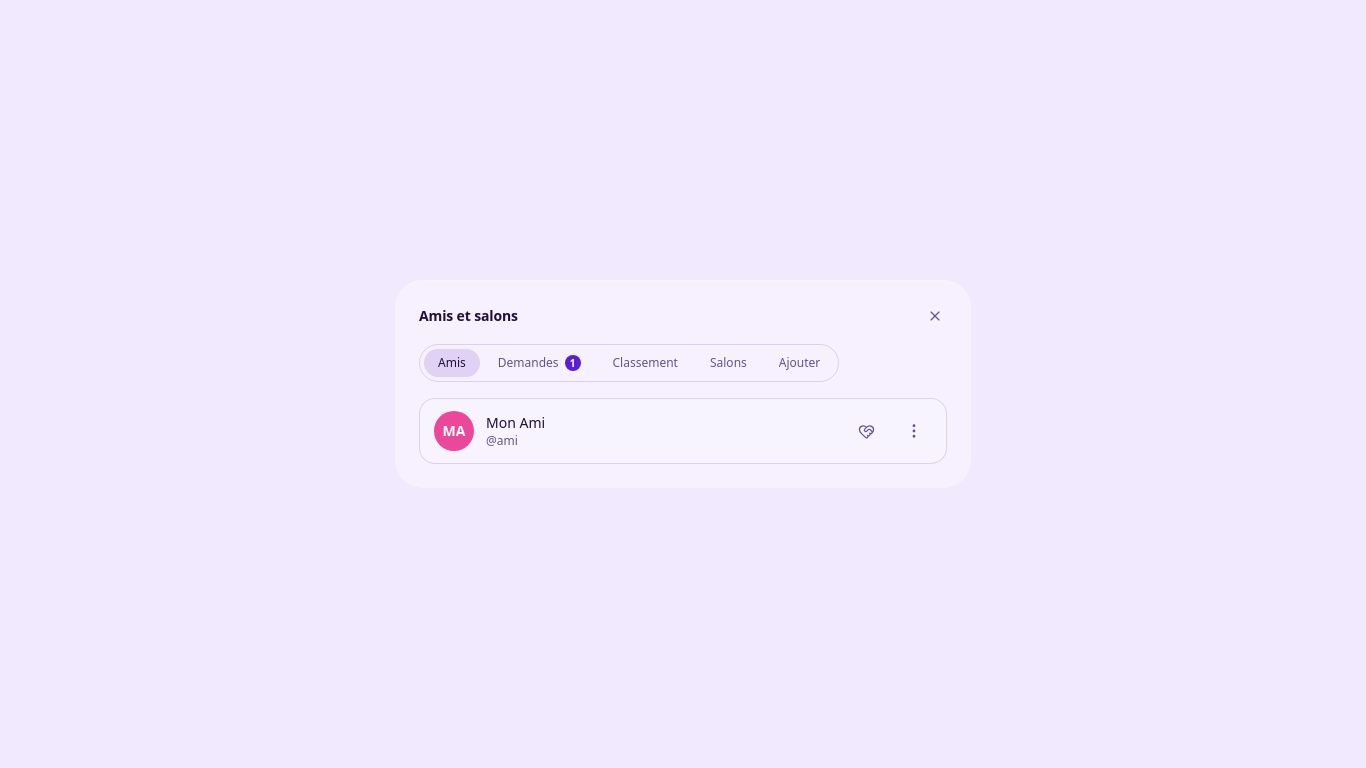
Test: SocialPanel — point d’entrée social unique (LOT H2, §1) › état vide : aucun salon affiche le message dédié
The image size is (1366, 768).
Click the tab "Salons" at (728, 363), box [696,349,761,377]
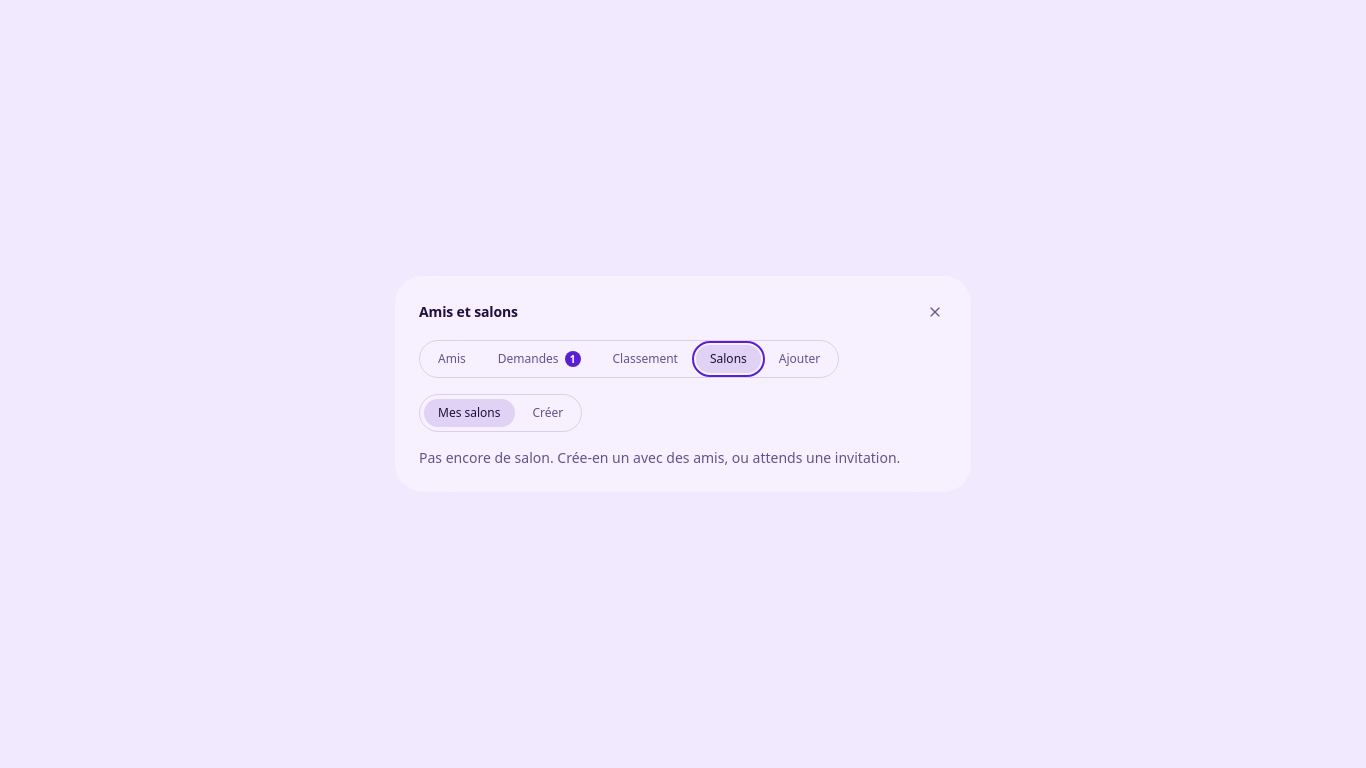
Result: the text "Pas encore de salon" is shown at [419,448,900,467]
